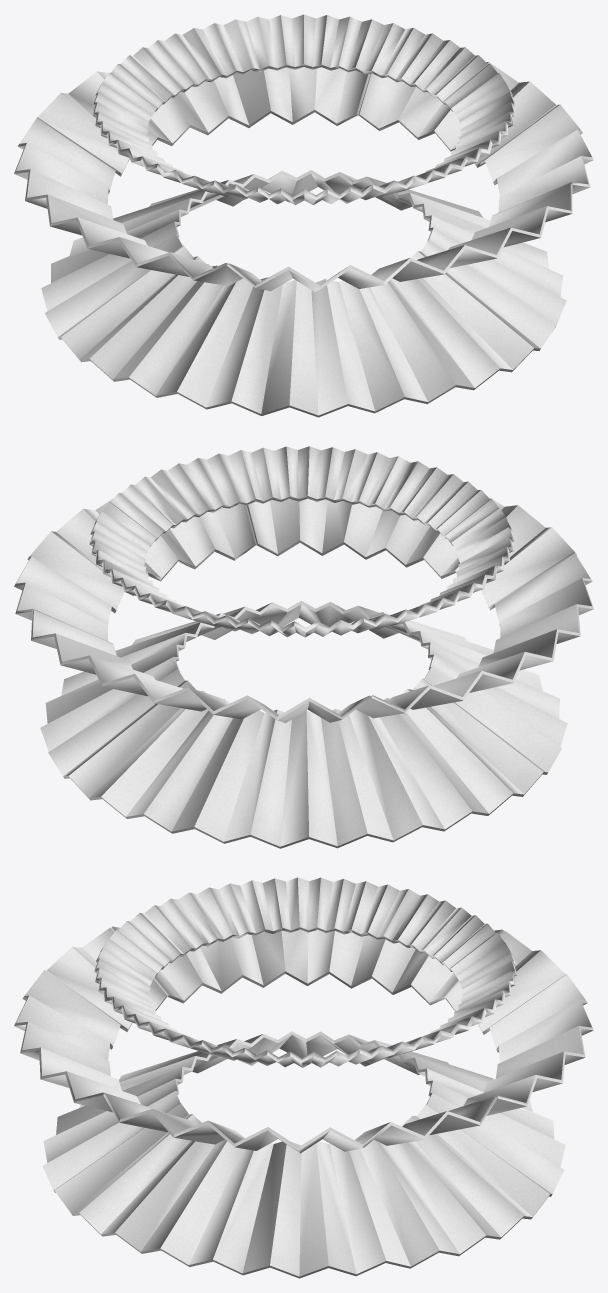
Rendered from Couronne1.gltf.
3 views of the same model, one above another, from view 1: azimuth 30°, elevation 25°; view 2: azimuth 150°, elevation 25°; view 3: azimuth 270°, elevation 25° (orthographic).
Visible parts, largest first — view 1: Couronne_1; view 2: Couronne_1; view 3: Couronne_1.
Boxes of the visible parts, x1=… form: Couronne_1: x1=14, y1=14, x2=593, y2=417; Couronne_1: x1=14, y1=446, x2=593, y2=848; Couronne_1: x1=14, y1=877, x2=593, y2=1278.
Size of the model in its own units: 140 by 55.29 by 140.
1 material, 1 textured.
